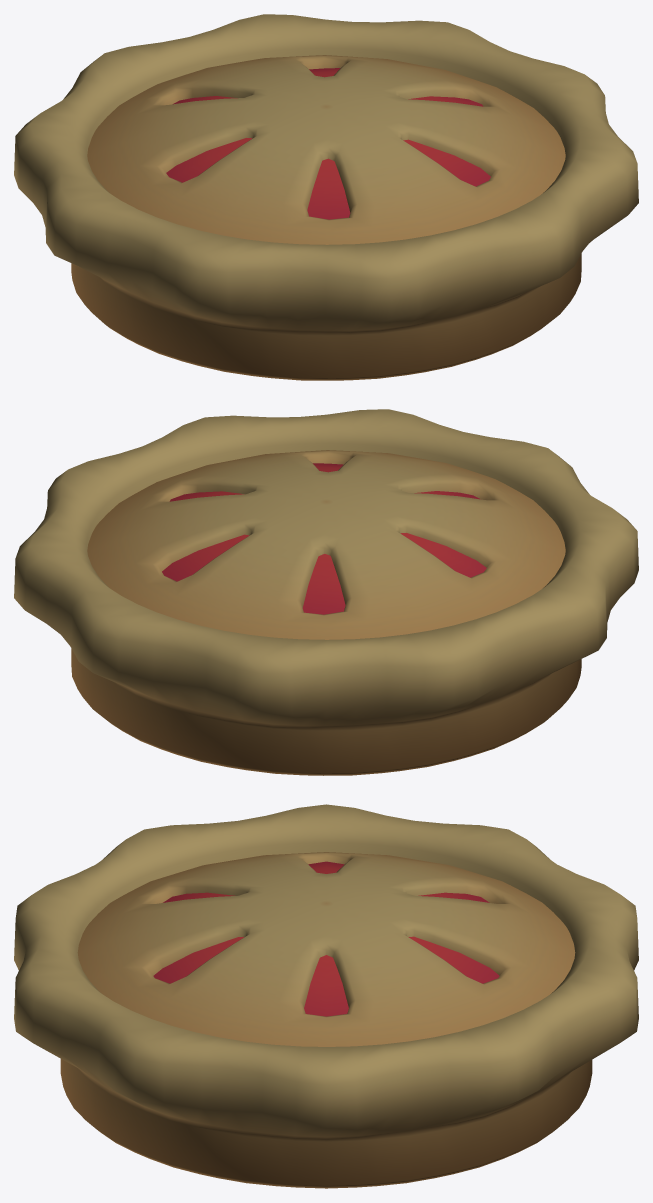
Rendered from Pie.glb.
3 renders of one model, top to bottom at view 1: azimuth 30°, elevation 25°; view 2: azimuth 150°, elevation 25°; view 3: azimuth 270°, elevation 25°, orthographic. The views are drawn at different scales.
Visible parts, largest first — view 1: geometry_0; view 2: geometry_0; view 3: geometry_0.
Part boxes in pixels (bbox=[...]): geometry_0: bbox=[14, 14, 638, 380]; geometry_0: bbox=[14, 409, 638, 775]; geometry_0: bbox=[14, 804, 638, 1188].
Bounding box in the file's own units: 0.4126 × 0.1221 × 0.395.
1 material, 1 textured.
